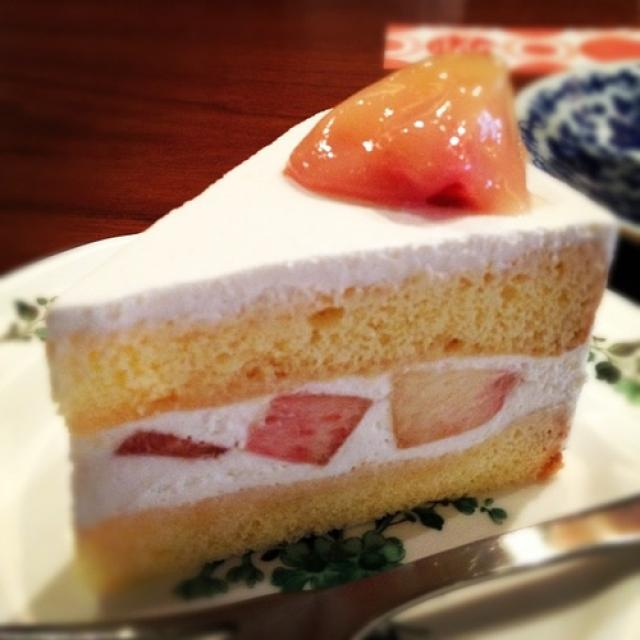蛋糕甜品: (13, 15, 631, 613)
